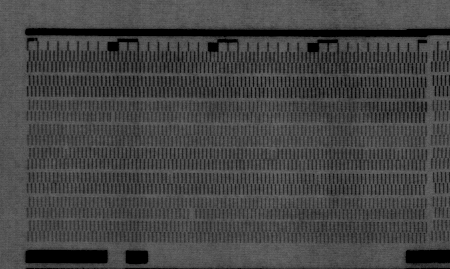Broken hole: (187, 209, 198, 221)
Oblique printing: (265, 148, 279, 163), (105, 112, 117, 123), (61, 148, 71, 159)
